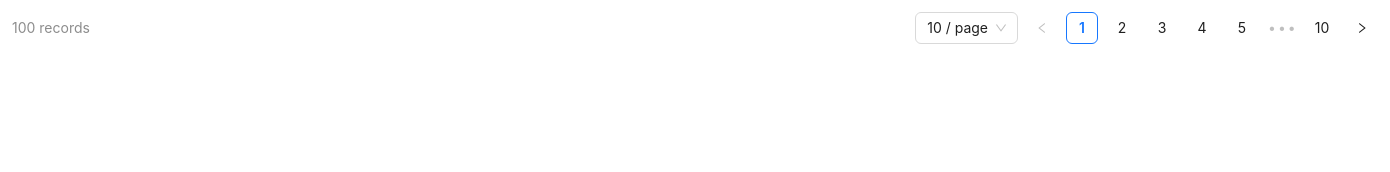
Test: EntityOffsetFooter › shows custom pageSizeOptions in selector dropdown
The image size is (1390, 172).
Press the mouse on the dropdown at (958, 28), box [927,13,988,43]
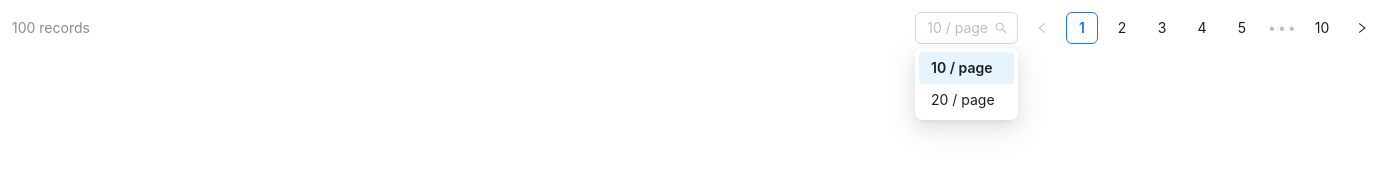
Expected: the text "10 / page" in the row of "100 records" is shown, [927,19,988,36]
Now the text "20 / page" is shown, box [931,89,1002,111]
